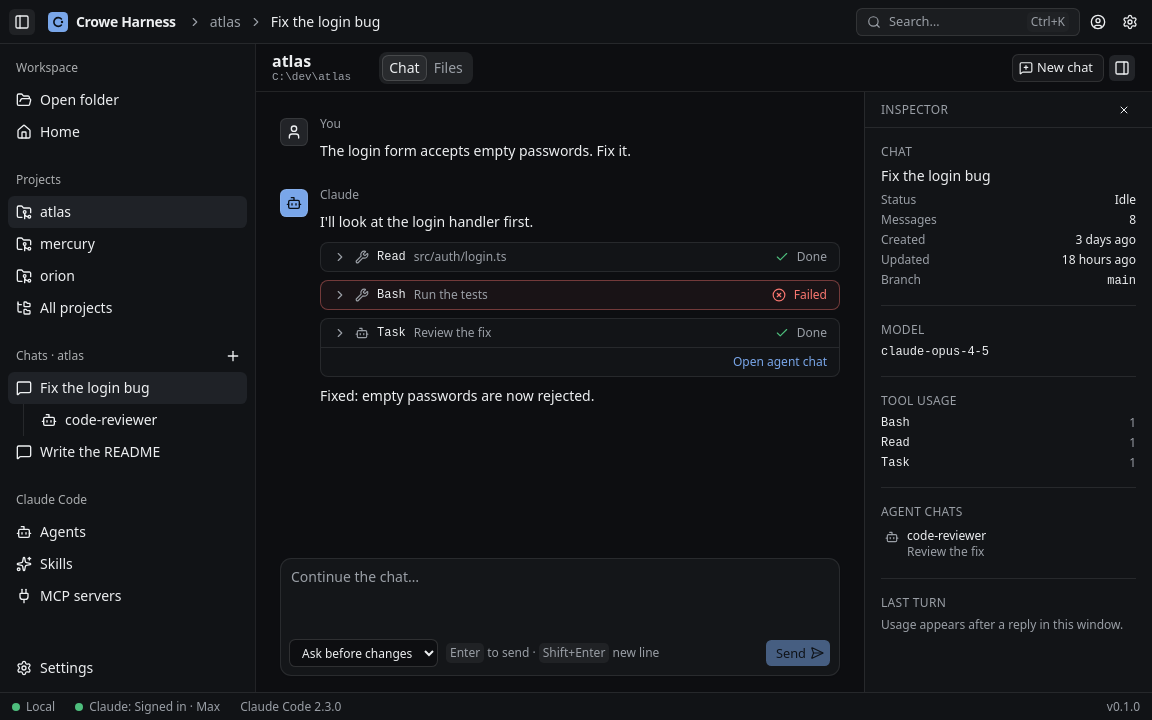
Test: stored chats › renders the transcript with paired tool cards and an agent-chat link
Expected: the text "The login form accepts empty passwords. Fix it." is shown, x1=320 y1=141 x2=631 y2=160
Expected: the text "Fixed: empty passwords are now rejected." is shown, x1=320 y1=386 x2=594 y2=404
Click the button "Bash Run the tests Failed" at (451, 294), box x1=321 y1=280 x2=839 y2=308
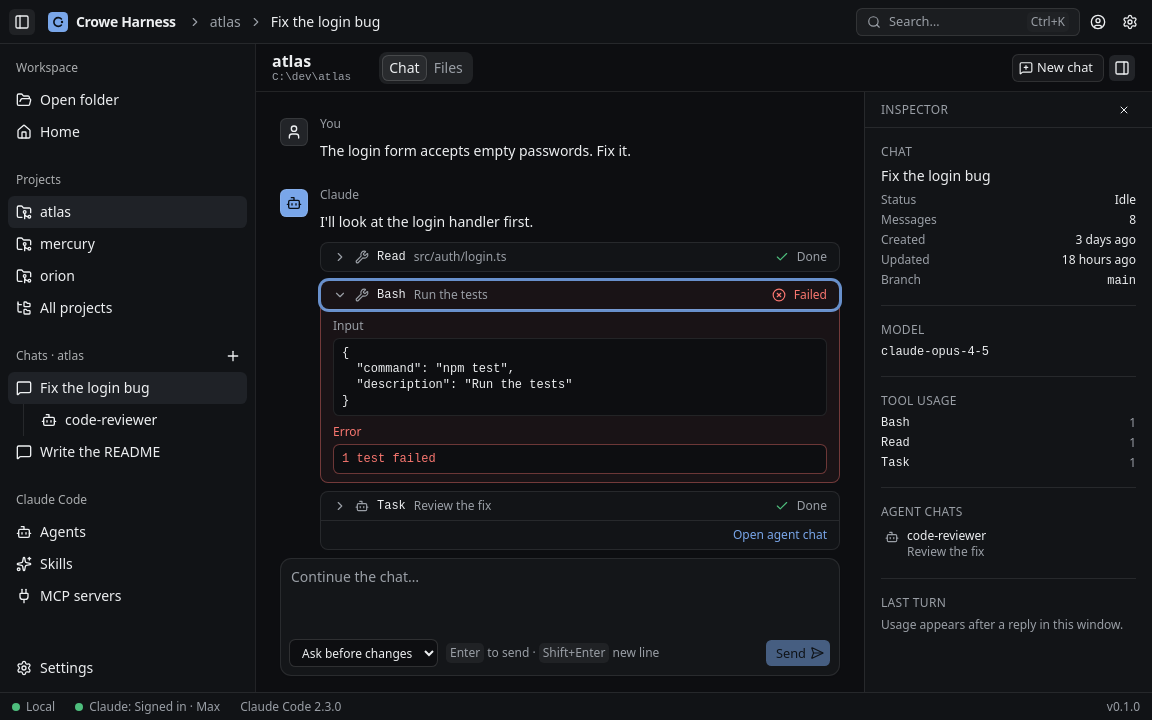
Now the button "Bash Run the tests Failed" is expanded, box x1=321 y1=280 x2=839 y2=308
Now the text "1 test failed" is shown, box x1=333 y1=444 x2=827 y2=474
Now the text "Error" is shown, box x1=333 y1=422 x2=362 y2=440
